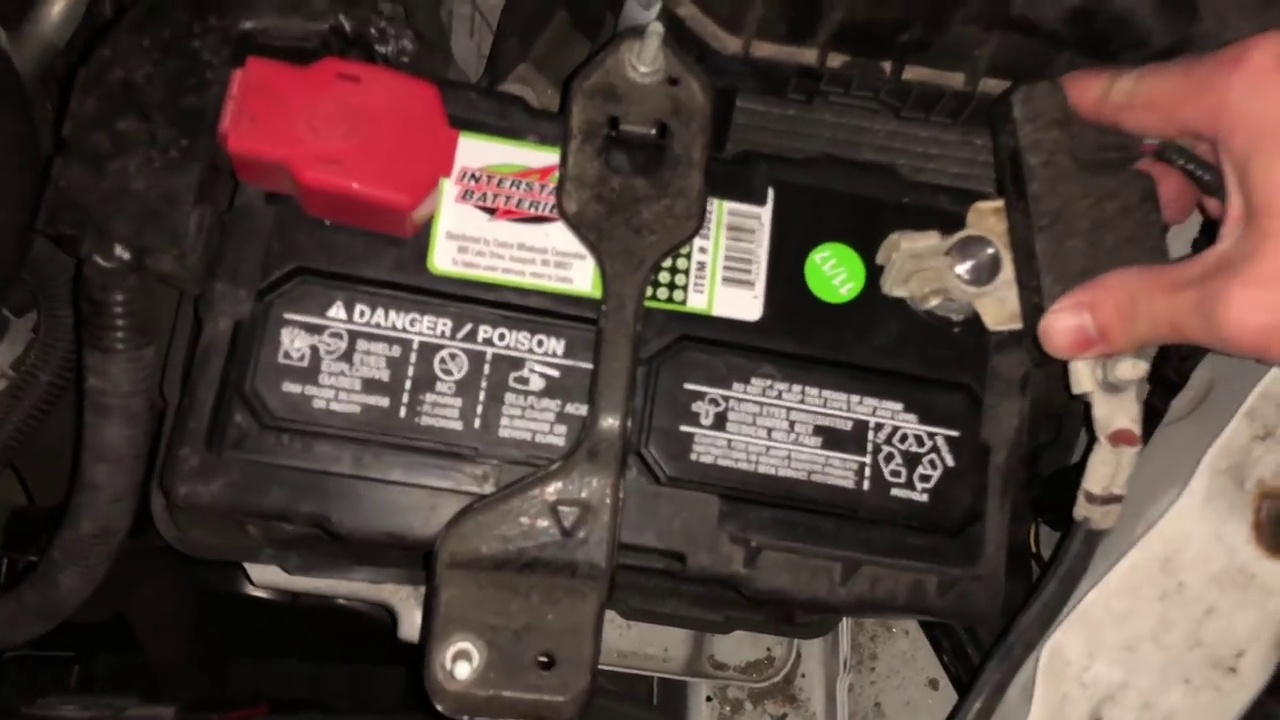battery: (202, 51, 1013, 583)
neg_connected: (853, 162, 1021, 348)
neg_touched: (879, 152, 1188, 400)
pos_connected: (201, 33, 477, 243)
